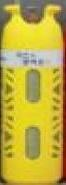cylinder: (1, 1, 66, 185)
